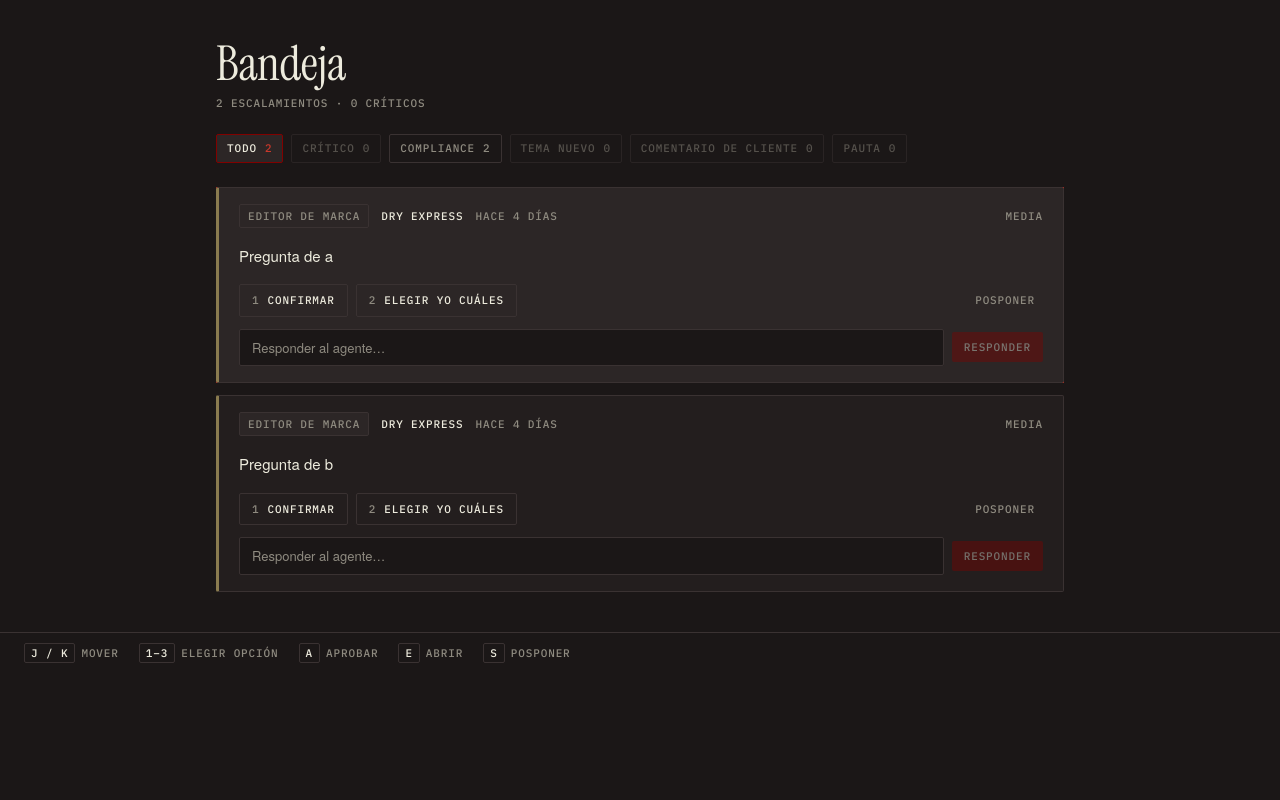
Test: la bandeja › escribirle al agente NO dispara los atajos
The width and height of the screenshot is (1280, 800).
Click the field with placeholder "Responder al agente…" below "Pregunta de a".
click(591, 347)  # box x1=239 y1=329 x2=944 y2=366
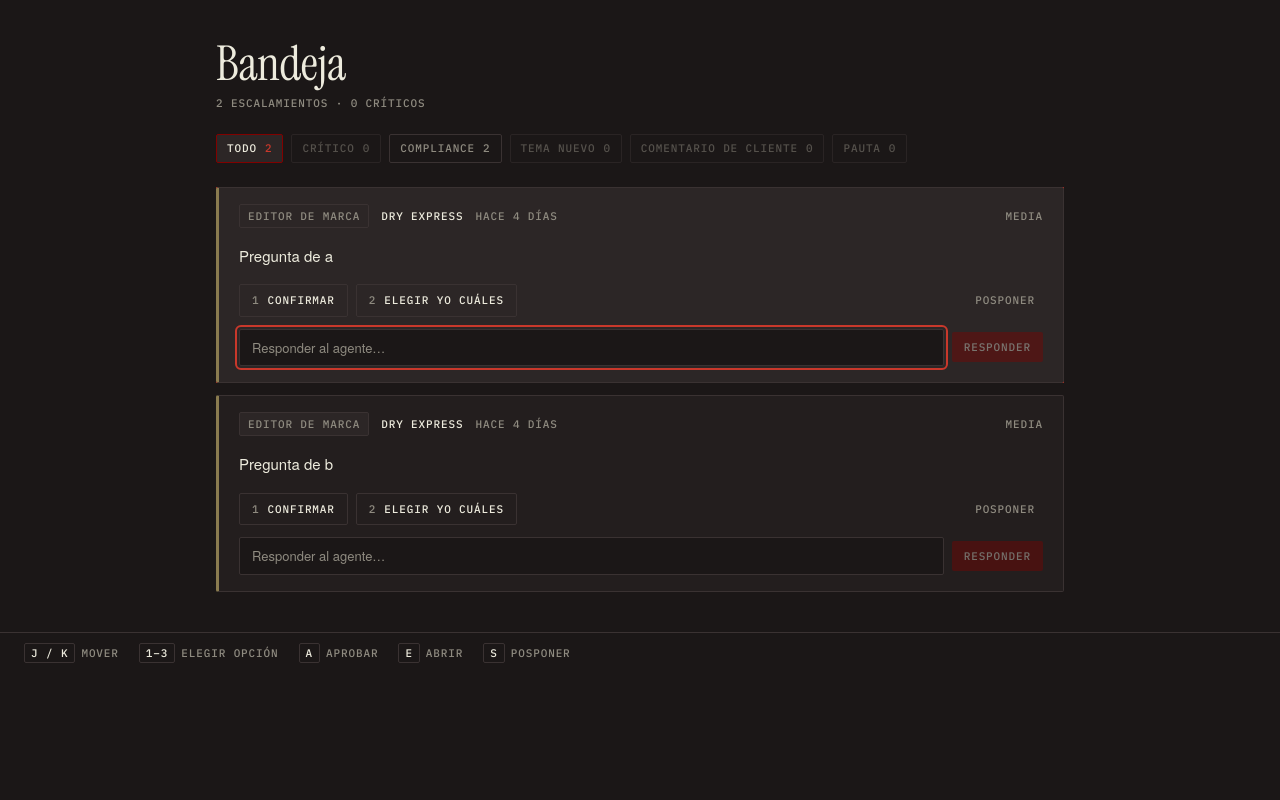
Type keys "ajusta el hook, son 3"
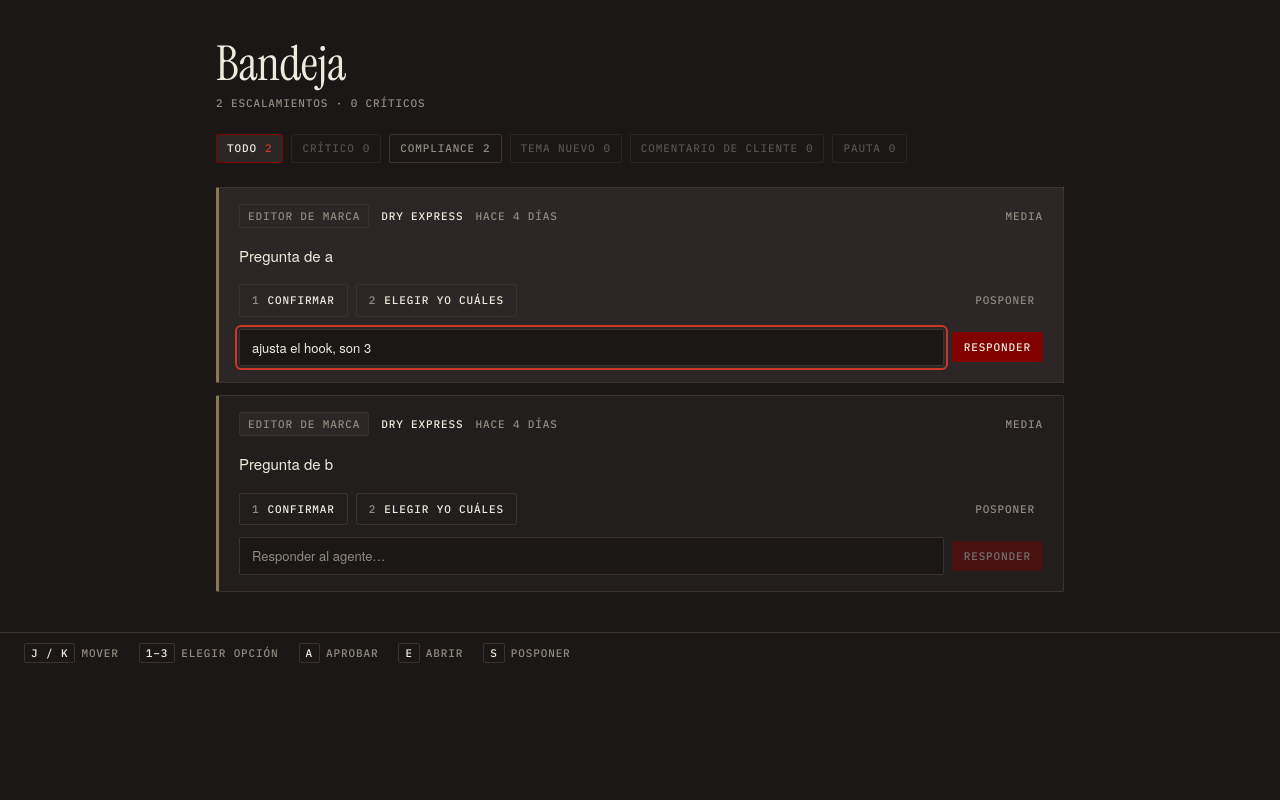
Expected: the field with placeholder "Responder al agente…" holds "ajusta el hook, son 3", x1=239 y1=329 x2=944 y2=366
